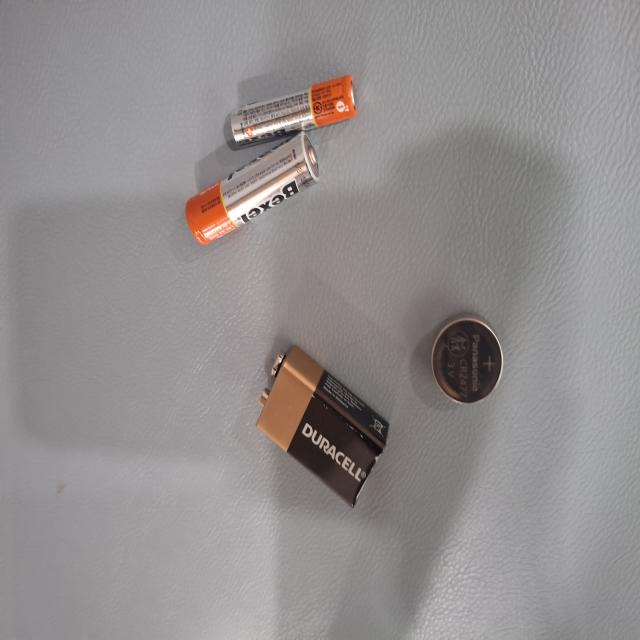9V: (250, 133, 382, 295)
AA: (318, 398, 451, 508)
AAA: (284, 491, 414, 565)
COIN: (136, 235, 210, 325)
